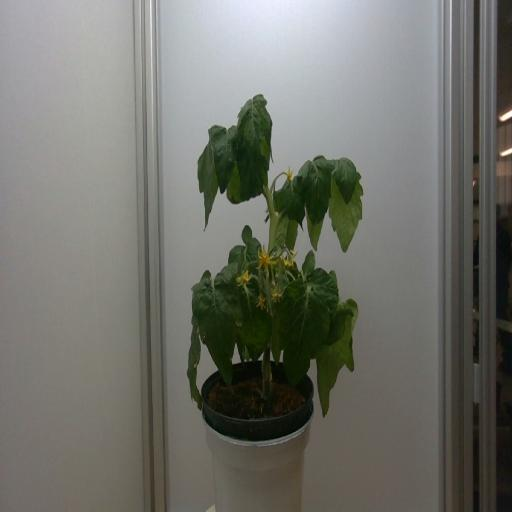Tomato-Leaves-Cupboard-: (191, 265, 239, 390), (278, 280, 330, 391), (315, 296, 358, 420), (230, 240, 271, 370), (235, 92, 273, 198), (328, 162, 366, 253), (195, 132, 220, 235), (208, 118, 238, 194), (303, 150, 333, 225), (268, 266, 286, 366), (186, 318, 204, 415), (281, 174, 307, 232), (222, 158, 247, 208), (334, 154, 358, 205), (306, 207, 328, 253), (285, 213, 298, 259), (276, 214, 287, 248), (302, 249, 314, 277), (240, 222, 253, 247)
